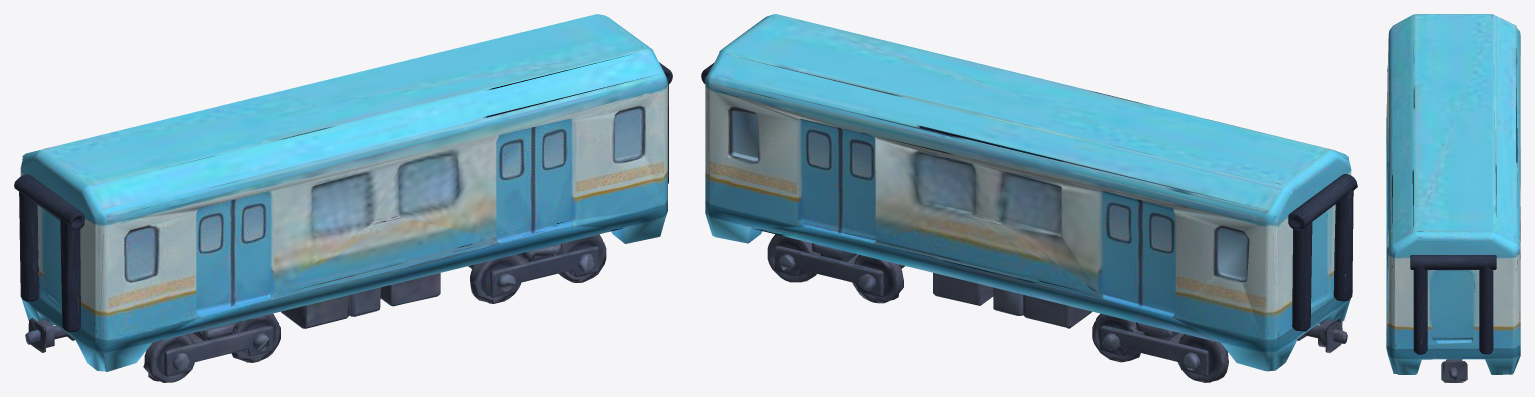
The model's file is car.glb.
3 renders of one model, left to right at view 1: azimuth 30°, elevation 25°; view 2: azimuth 150°, elevation 25°; view 3: azimuth 270°, elevation 25°, orthographic. The views are drawn at different scales.
Visible parts, largest first — view 1: geometry_0; view 2: geometry_0; view 3: geometry_0.
Boxes of the visible parts, x1,y1,x2,y2 form: geometry_0: [14, 14, 672, 382]; geometry_0: [701, 14, 1357, 382]; geometry_0: [1386, 14, 1520, 382].
Size of the model in its own units: 0.9497 by 0.3012 by 0.2182.
Materials: 1 (1 with a texture image).
